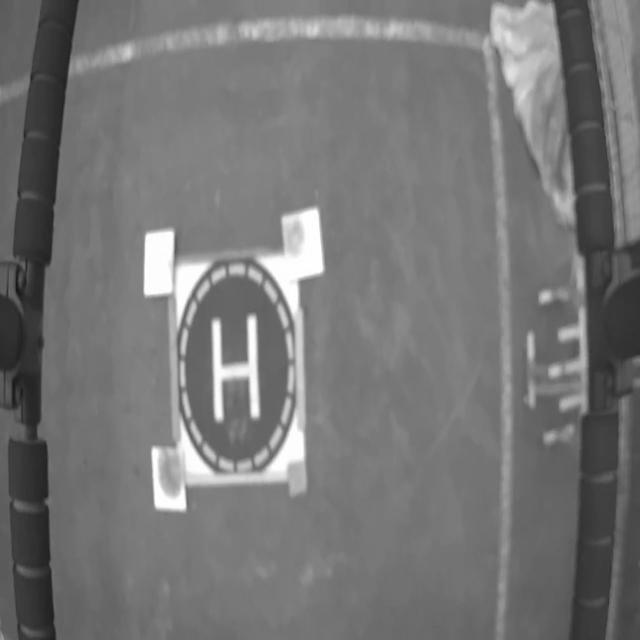Helipad: (212, 312, 260, 424)
